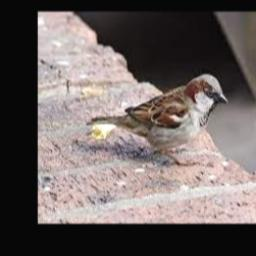Sparrow: (87, 73, 228, 164)
